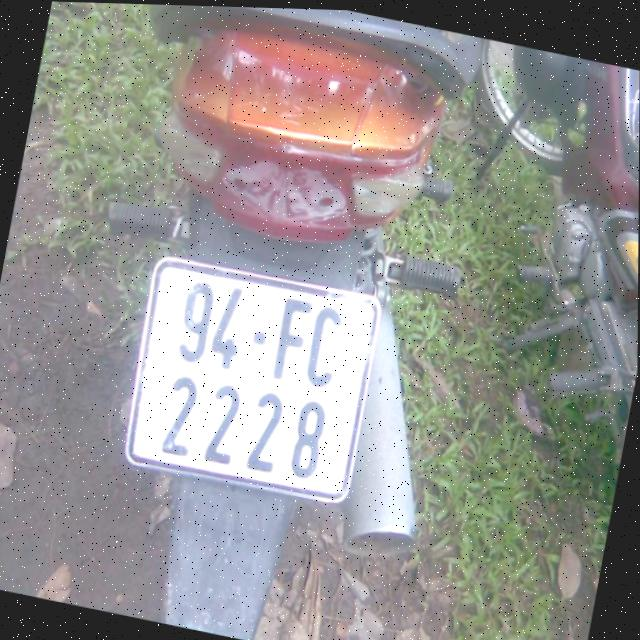motorcycle: (33, 1, 512, 640), (407, 36, 640, 501)
plate: (116, 252, 385, 506)
